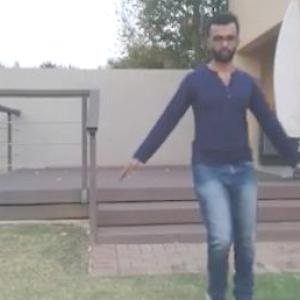land: (136, 33, 294, 293)
